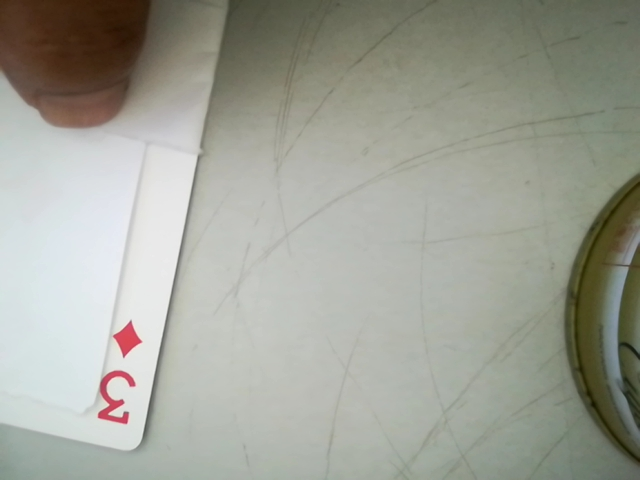fk 3: (81, 315, 157, 441)
